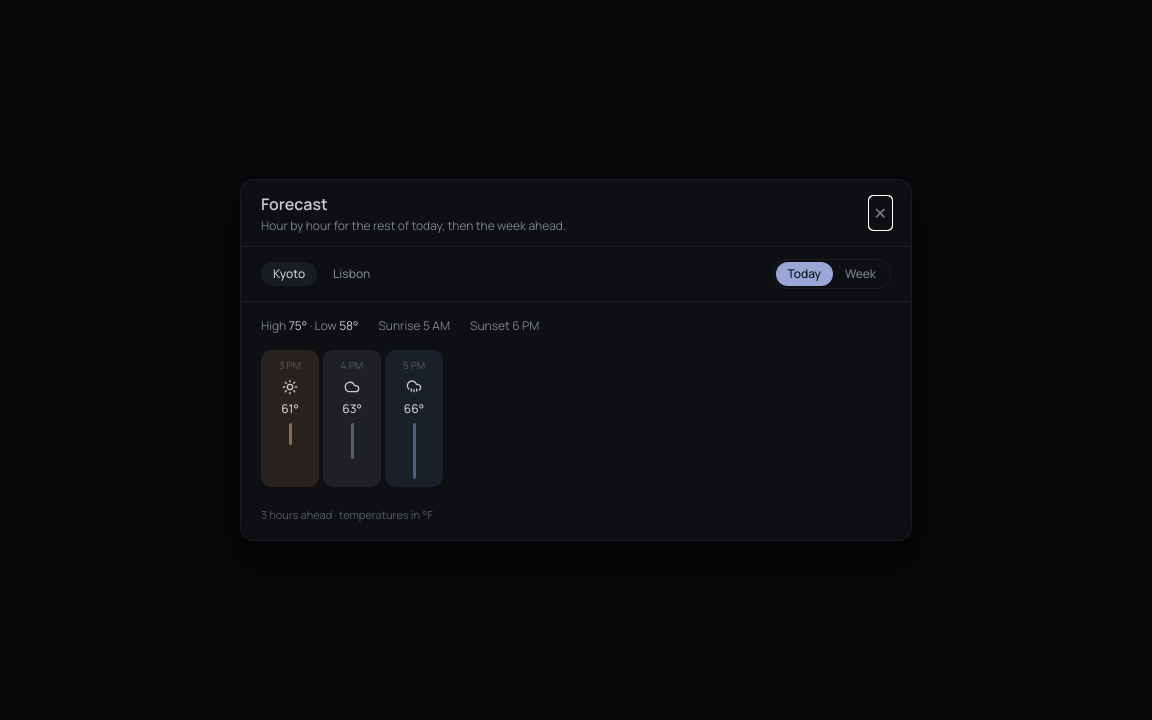
it: WeatherForecastModal › switches to the week, naming today and reading each day's range
Click the button "Week": (860, 274) [833,262,888,286]
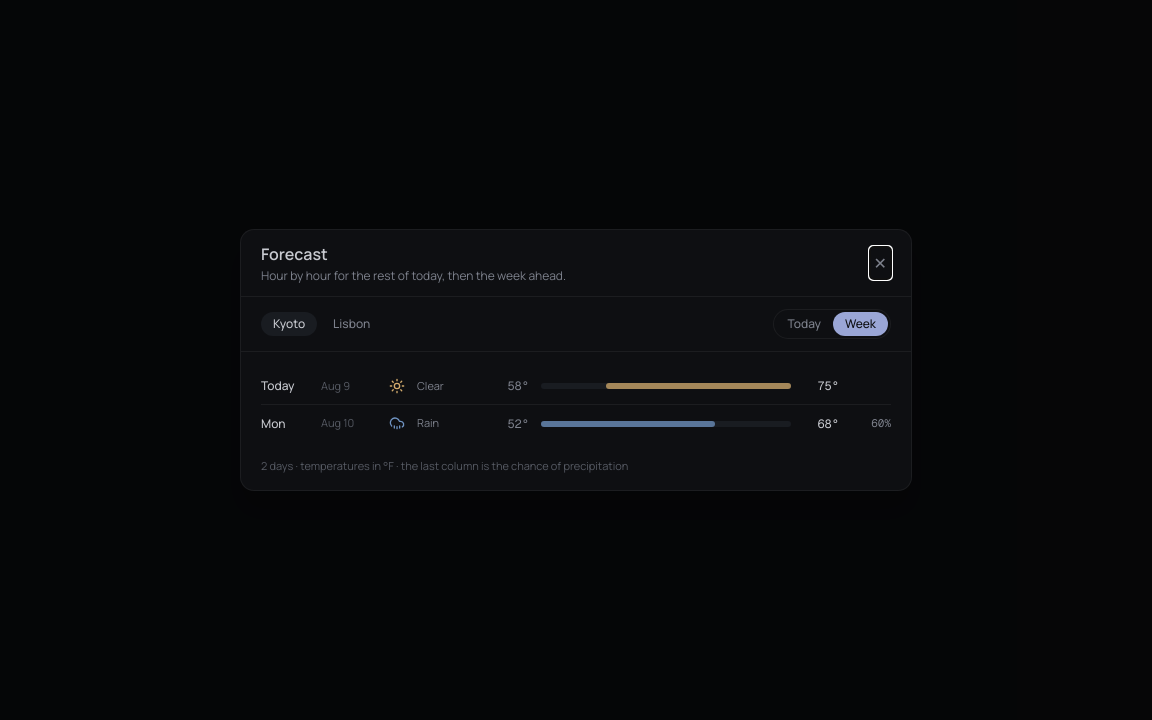
Expected: the text "Today" is shown, [261,377,294,394]
Expected: the picture named "Low 58 degrees, high 75 degrees" is shown, [541,383,791,389]
Expected: the picture named "Low 52 degrees, high 68 degrees" is shown, [541,420,791,426]
